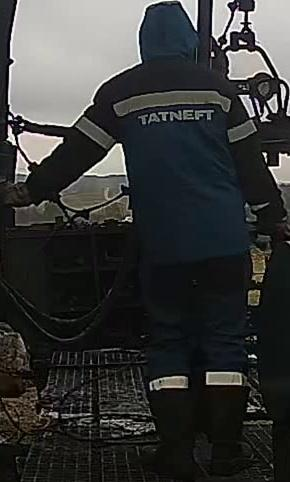gloves: (1, 176, 40, 208)
vest: (84, 61, 258, 269)
